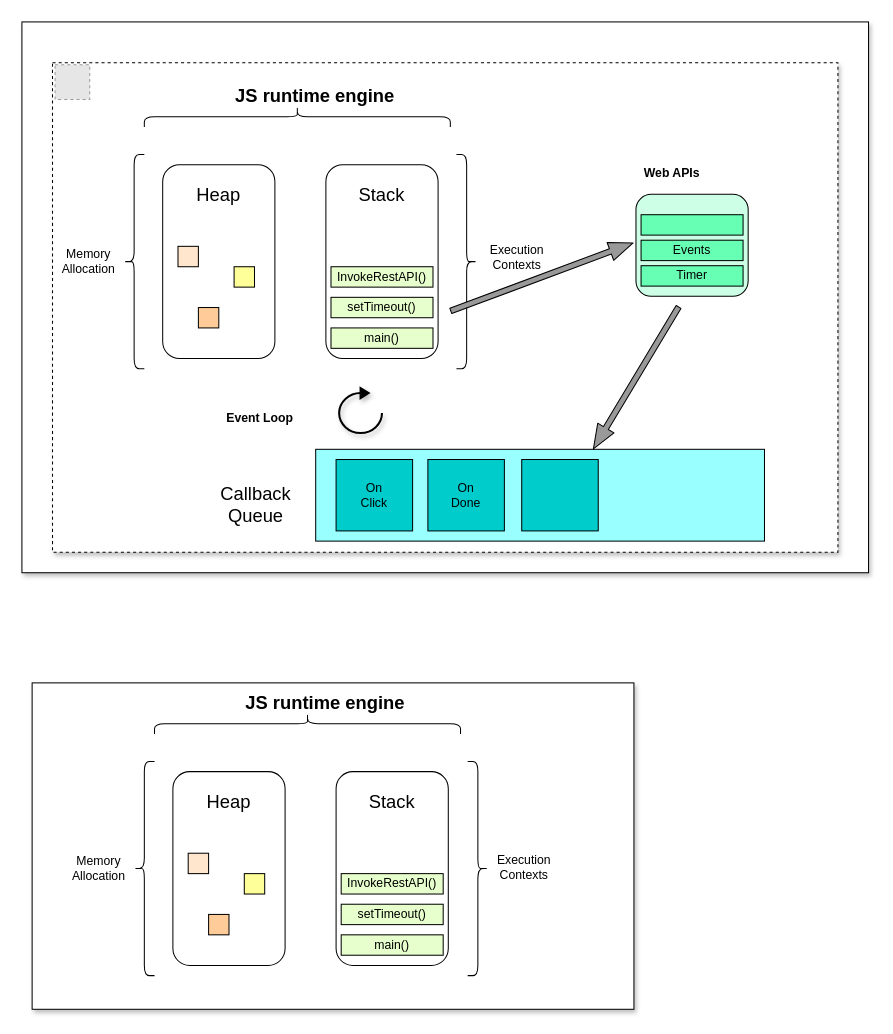
This 893x1034 diagram has some shape labels left out. Grey dashed boxes stand in for pictures. The shapes that lost their labels are listed below. From the top down, each one's centre as x and y in pixels, then its label:
At (x=691, y=224): "AJAX".
At (x=559, y=494): "On Load".
